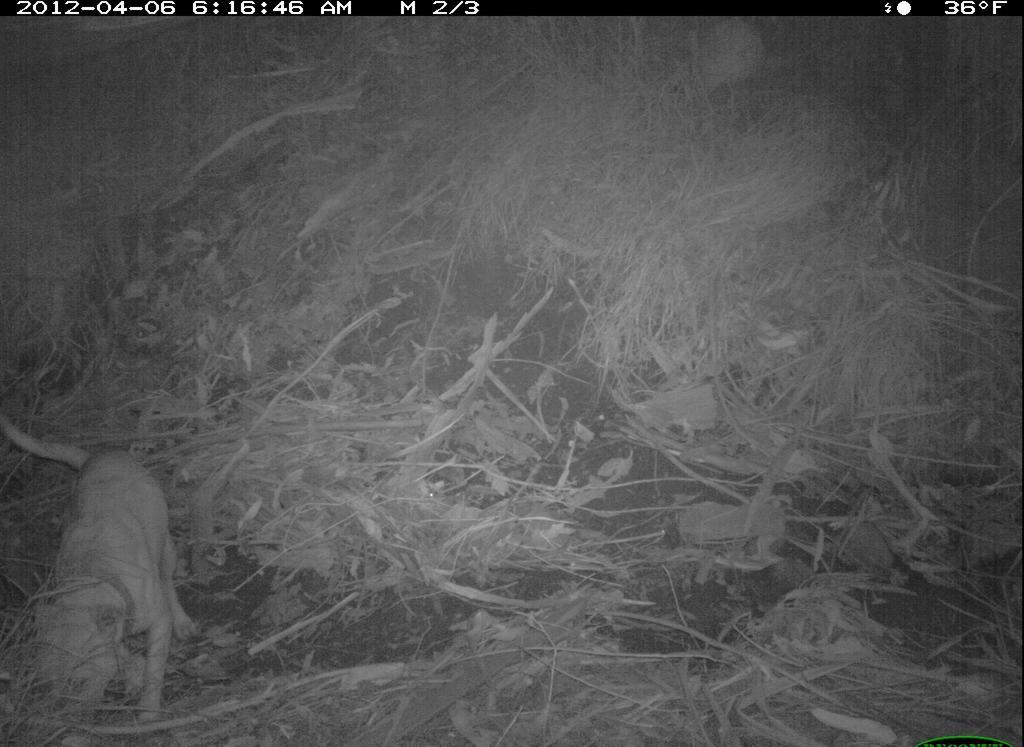dog: (8, 399, 213, 729)
